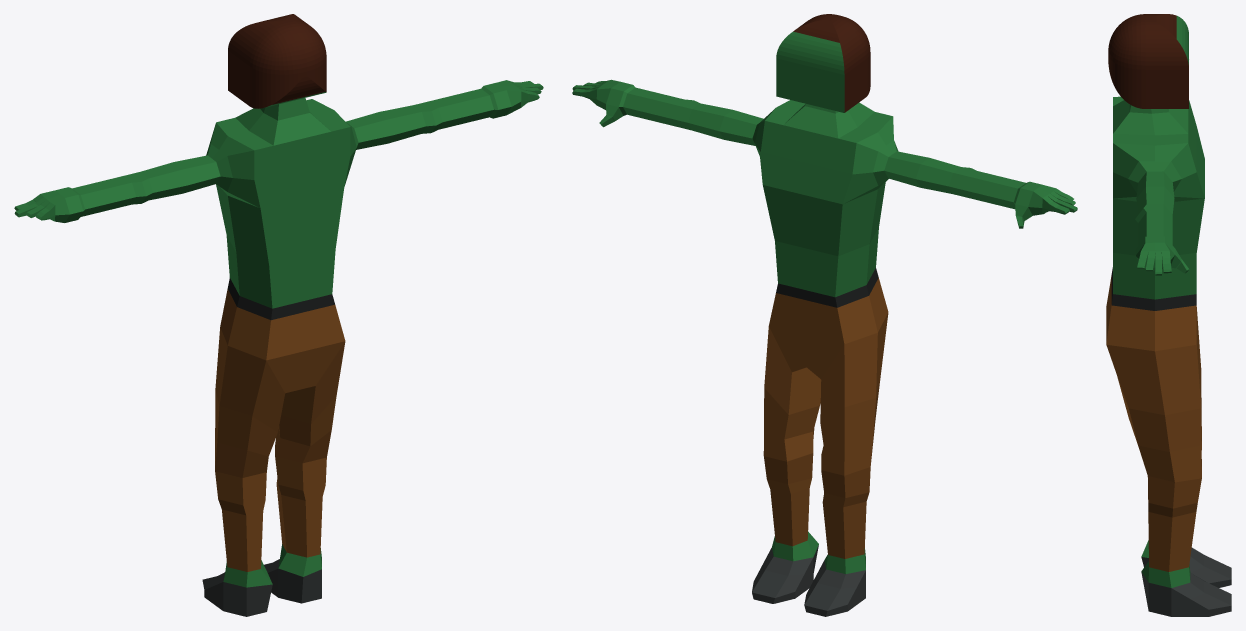
The model's file is Enemy_01.fbx.
The picture shows the model from 3 angles, left to right: view 1: azimuth 30°, elevation 25°; view 2: azimuth 150°, elevation 25°; view 3: azimuth 270°, elevation 25°; orthographic projection. The views are drawn at different scales.
Parts seen in each view (by area): view 1: Human Arms Model; view 2: Human Arms Model; view 3: Human Arms Model.
Boxes of the visible parts, x1,y1,x2,y2 form: Human Arms Model: (14,14,543,616); Human Arms Model: (572,14,1077,616); Human Arms Model: (1106,14,1231,616).
Size of the model in its own units: 299 by 320 by 63.01.
